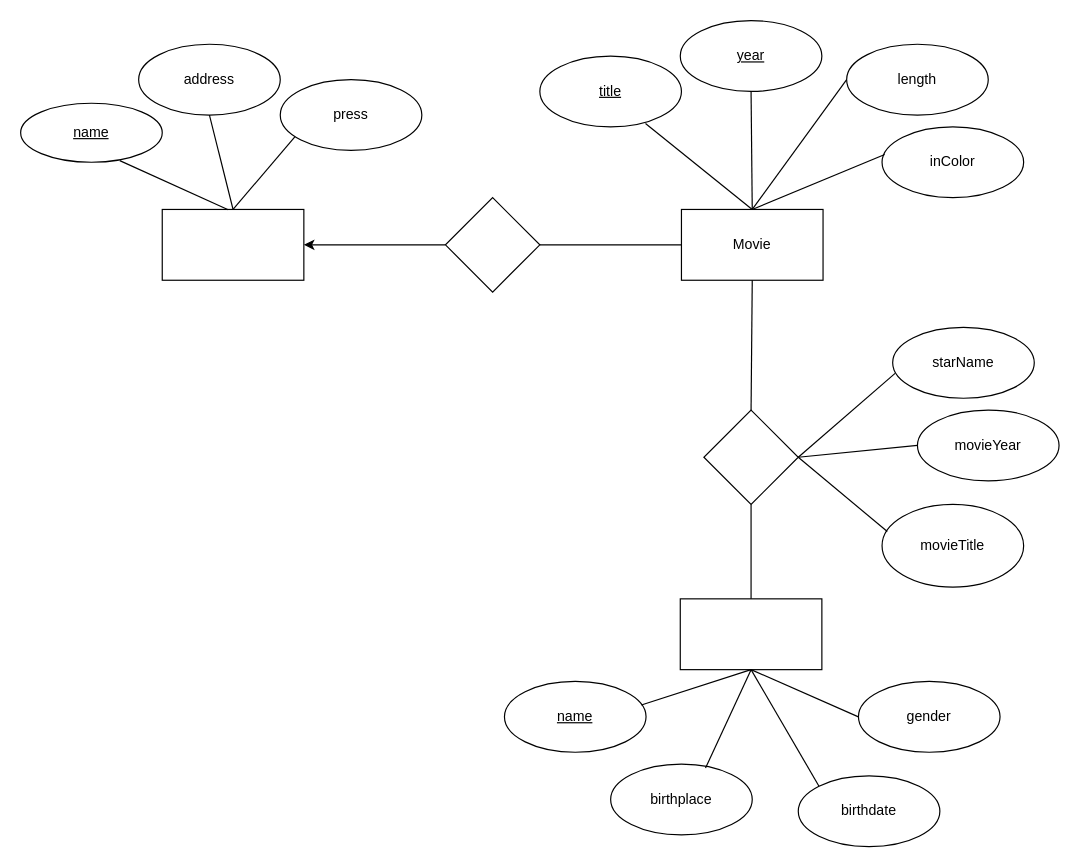
Some shapes in this 1080 by 867 pixel diagram are drawn without their labels. The box of each missing label's shape, as (x1, y1, x2, y2) in pixels:
create: (444, 196, 540, 292)
MovieStar: (679, 598, 822, 670)
StarsIn: (703, 409, 798, 504)
Studio: (161, 208, 304, 280)
